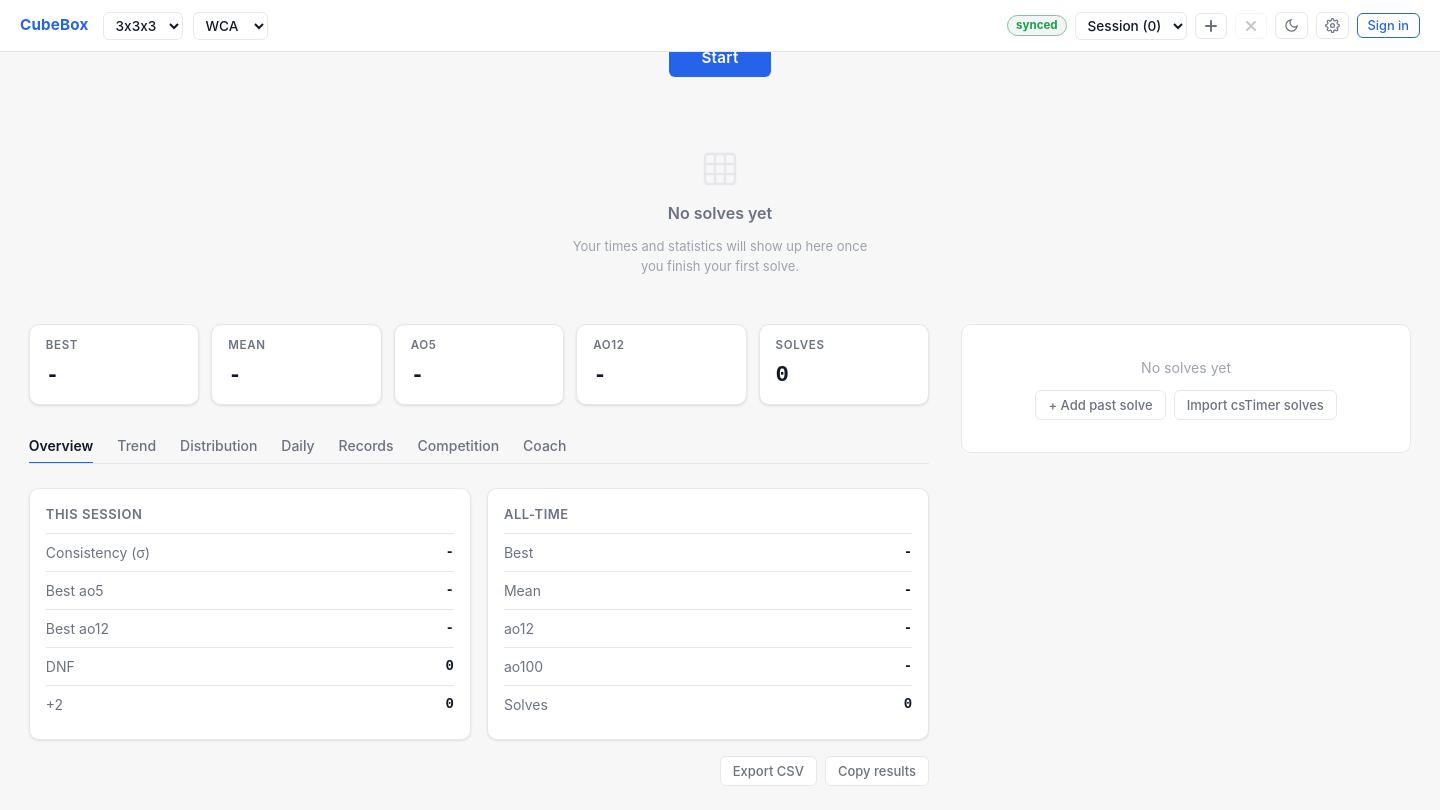
Test: App with zero solves › reaches SolveList's own empty state and 'Add past solve' without having completed a solve
(page scrolled)
Click the button "+ Add past solve". click: (1101, 405)
box: [1035,390,1166,420]
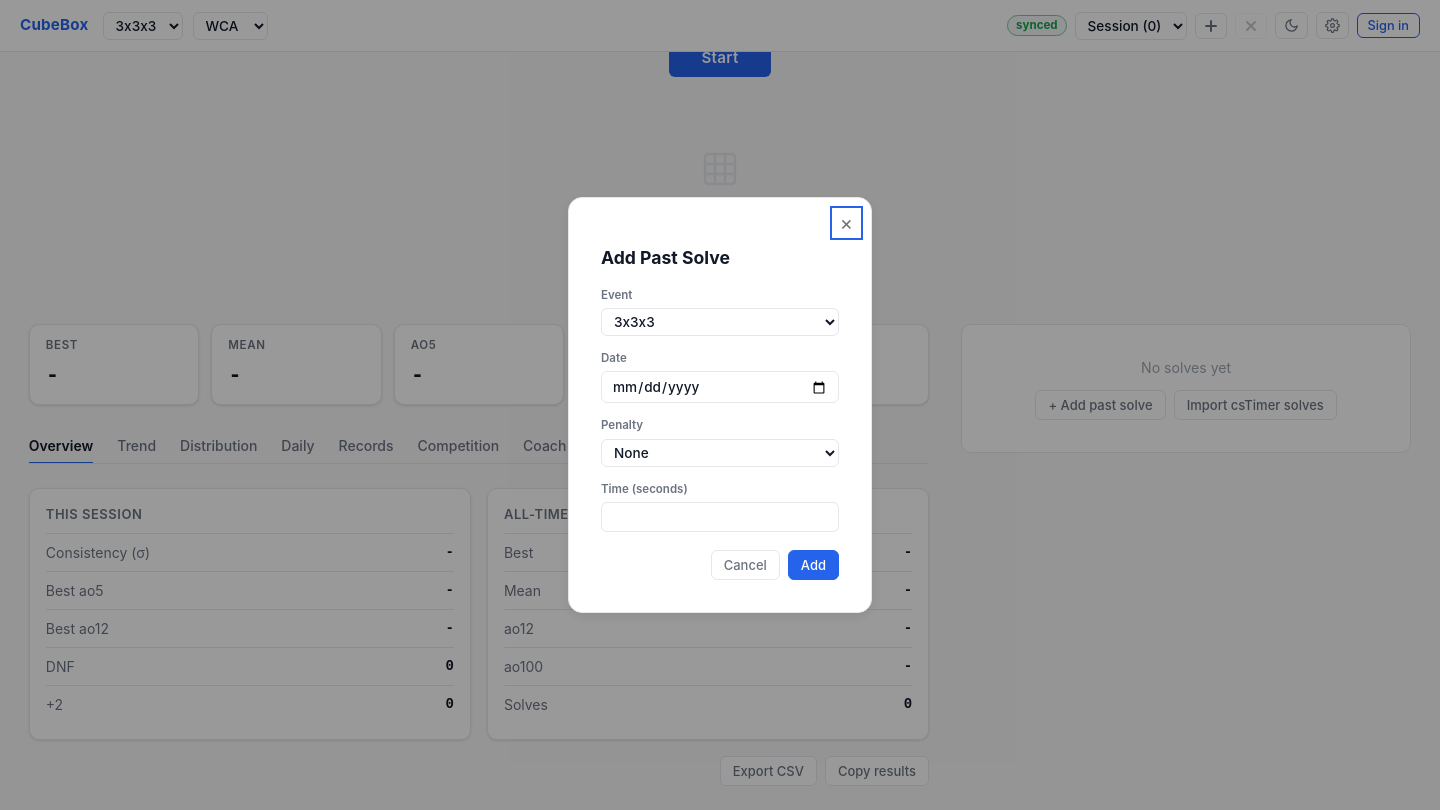
Now the dialog "Add Past Solve" is shown, box [568,197,872,613]
